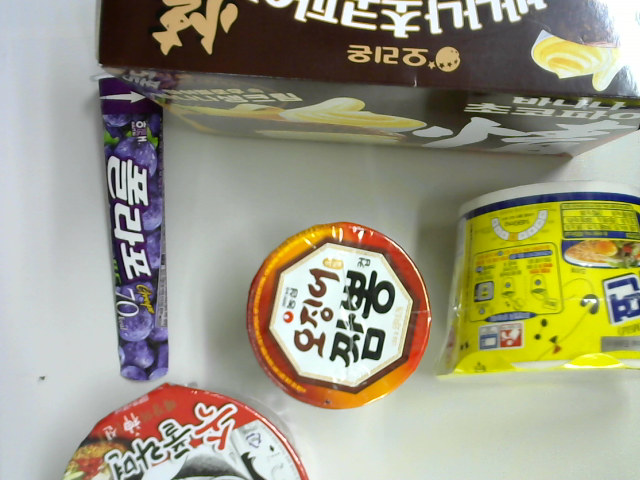Choco_Pie_Banana: (91, 1, 639, 165)
Hejangpul: (41, 381, 310, 480)
Jinlamyeon_Mild_Taste_Large_Cup: (432, 181, 640, 380)
Ojjam: (241, 222, 431, 417)
Polapo_Grape: (87, 65, 175, 388)
